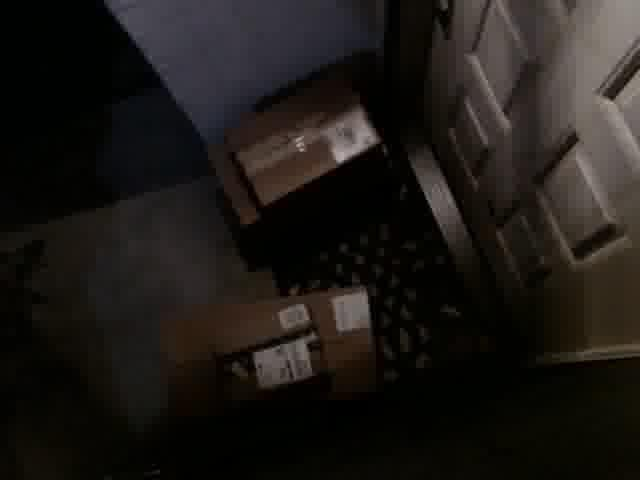box: (157, 280, 376, 472), (213, 66, 389, 272), (218, 73, 386, 208), (199, 299, 331, 405)
